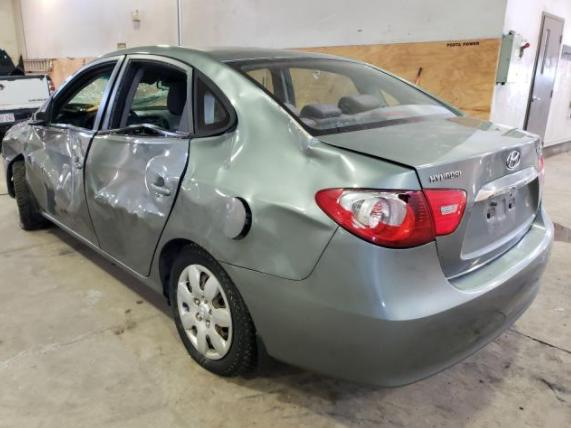Back-bumper: (218, 204, 553, 389)
Back-door: (84, 54, 194, 277)
Back-wheel: (170, 242, 259, 378)
Back-window: (198, 77, 230, 132)
Back-windshield: (222, 57, 468, 136)
Fender: (0, 118, 31, 162)
Front-bumper: (2, 158, 15, 198)
Front-door: (22, 54, 127, 248)
Front-wheel: (12, 160, 51, 231)
Mirror: (32, 100, 52, 121)
Quarter-panel: (147, 125, 423, 298)
Rocker-panel: (36, 207, 169, 306)
Roof: (87, 45, 364, 67)
Tail-light: (314, 187, 468, 249), (539, 155, 545, 181)
Trunk: (312, 115, 546, 281)
